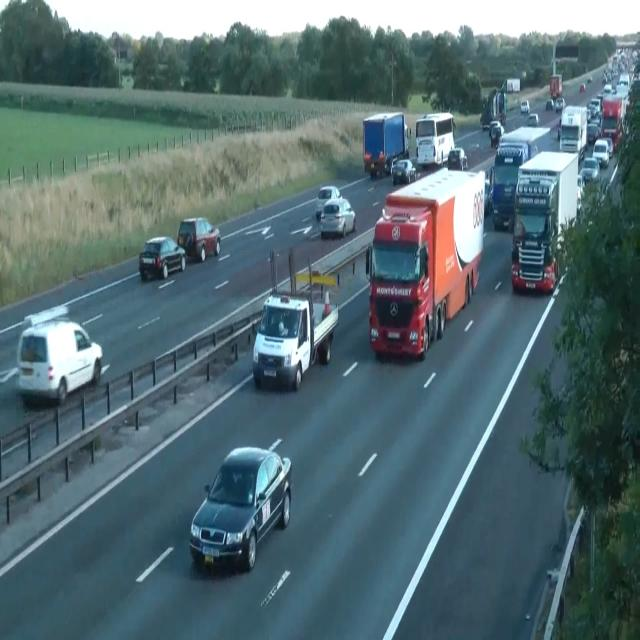bus: (15, 316, 103, 406), (320, 196, 356, 238), (314, 185, 342, 220), (391, 159, 415, 185), (580, 156, 600, 185), (448, 146, 468, 170), (577, 173, 585, 218), (490, 122, 504, 146), (484, 178, 492, 214), (587, 123, 599, 144), (488, 120, 500, 137), (555, 97, 565, 112), (527, 113, 539, 125), (520, 100, 530, 114), (545, 99, 554, 110), (580, 84, 586, 92), (587, 76, 592, 82)
jeep: (188, 438, 292, 572), (138, 235, 186, 280), (177, 216, 221, 261)
minibus: (365, 167, 485, 361), (511, 150, 578, 294), (252, 288, 339, 392), (490, 126, 552, 230), (363, 111, 411, 178), (415, 111, 455, 167), (559, 104, 587, 164), (600, 95, 623, 151), (481, 87, 506, 132), (549, 72, 563, 99), (500, 78, 520, 92)
